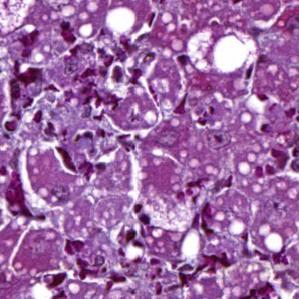ballooning: (185, 24, 261, 76)
